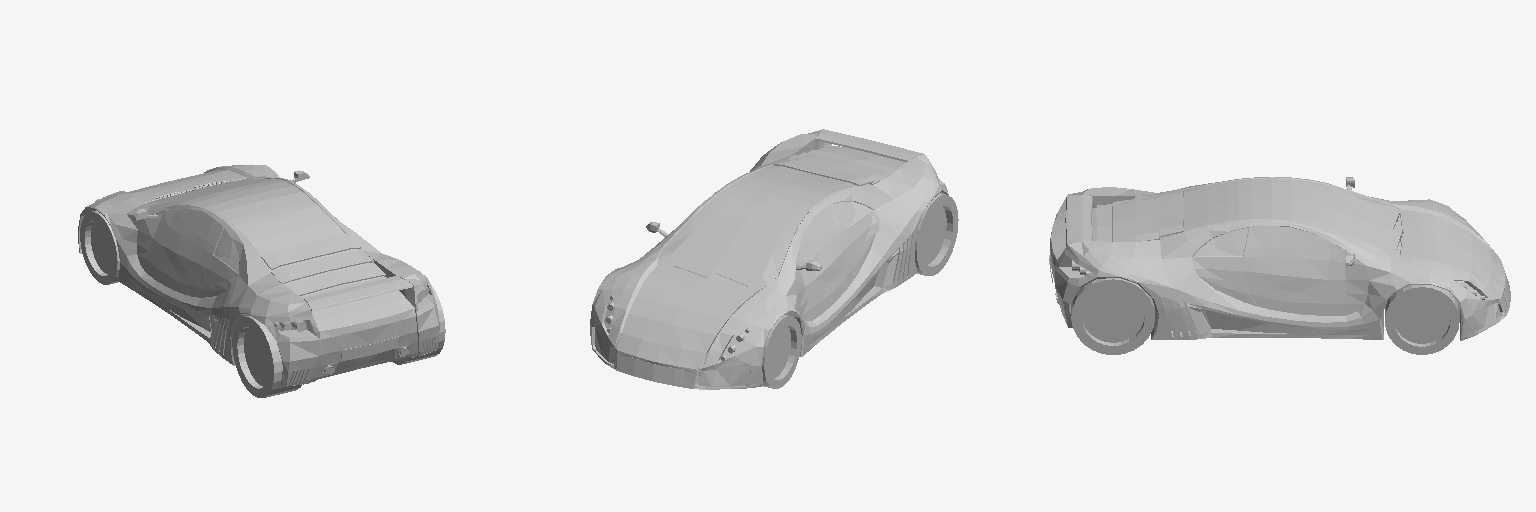
The model's file is car.obj.
3 renders of one model, left to right at view 1: azimuth 30°, elevation 25°; view 2: azimuth 150°, elevation 25°; view 3: azimuth 270°, elevation 25°, orthographic.
Parts seen in each view (by area): view 1: car; view 2: car; view 3: car.
Part boxes in pixels (x1,y1,x2,y2): car: (78, 165, 445, 397); car: (590, 129, 958, 389); car: (1049, 177, 1510, 354).
Bounding box in the file's own units: 1.91 × 1.21 × 4.4.